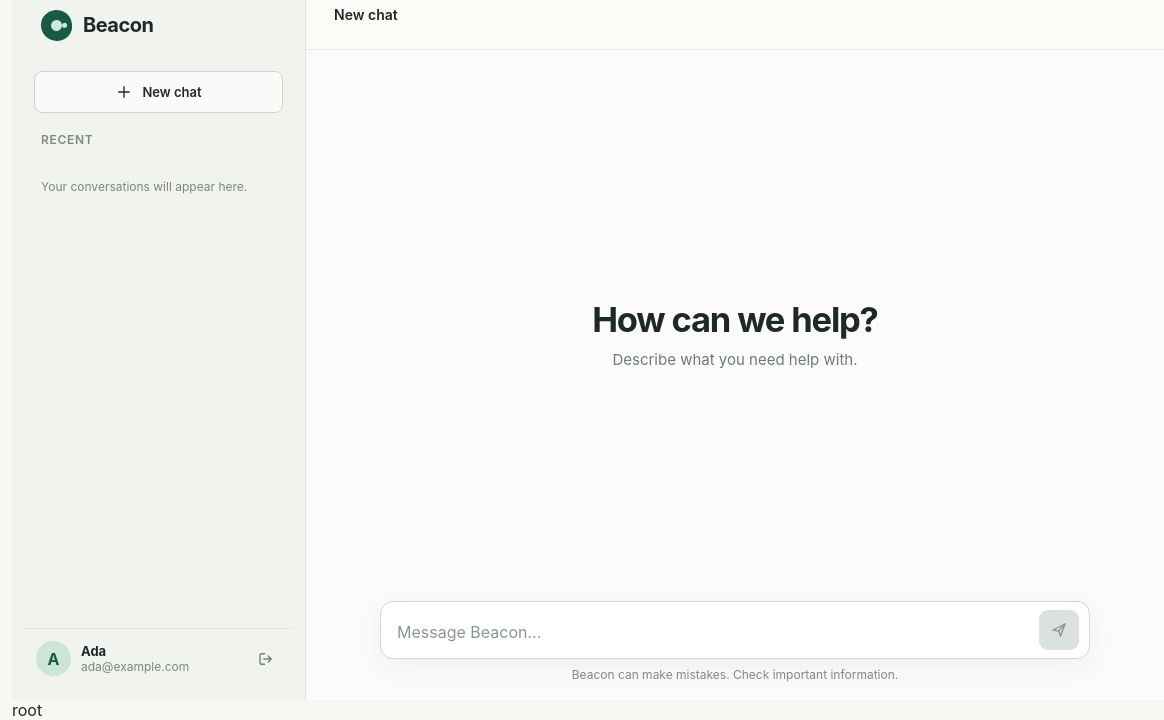
Test: chat routing › shows a stop control while streaming and cancels the request
(page scrolled)
In the text box with placeholder "Message Beacon…": (714, 632) x1=397 y1=615 x2=1031 y2=650, type "Please keep going"
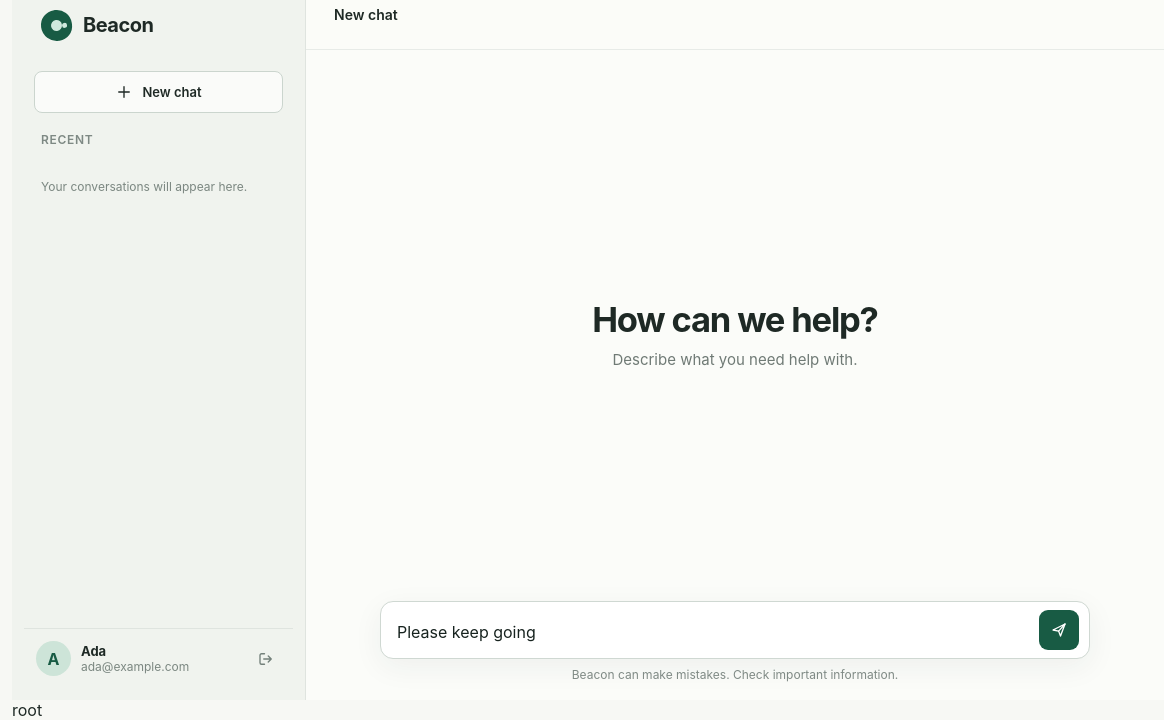
Submit the form with class "composer", box x1=380 y1=601 x2=1090 y2=659
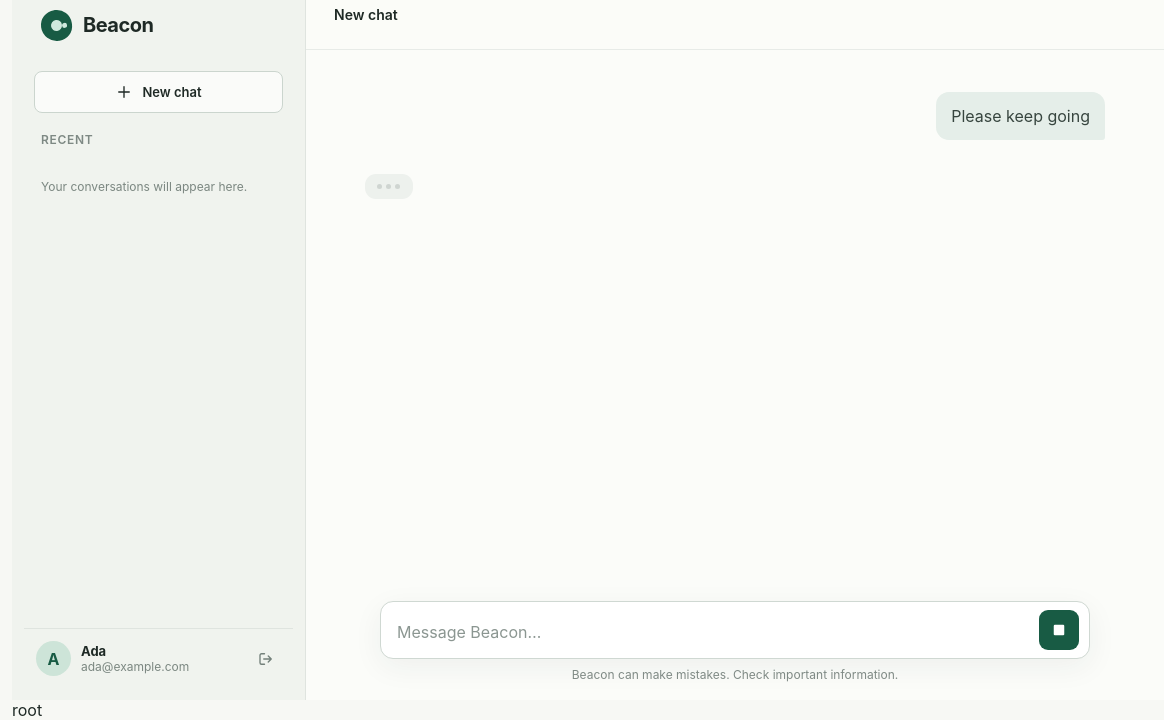
Click the button named "Stop generating": (1059, 630) x1=1039 y1=610 x2=1079 y2=650
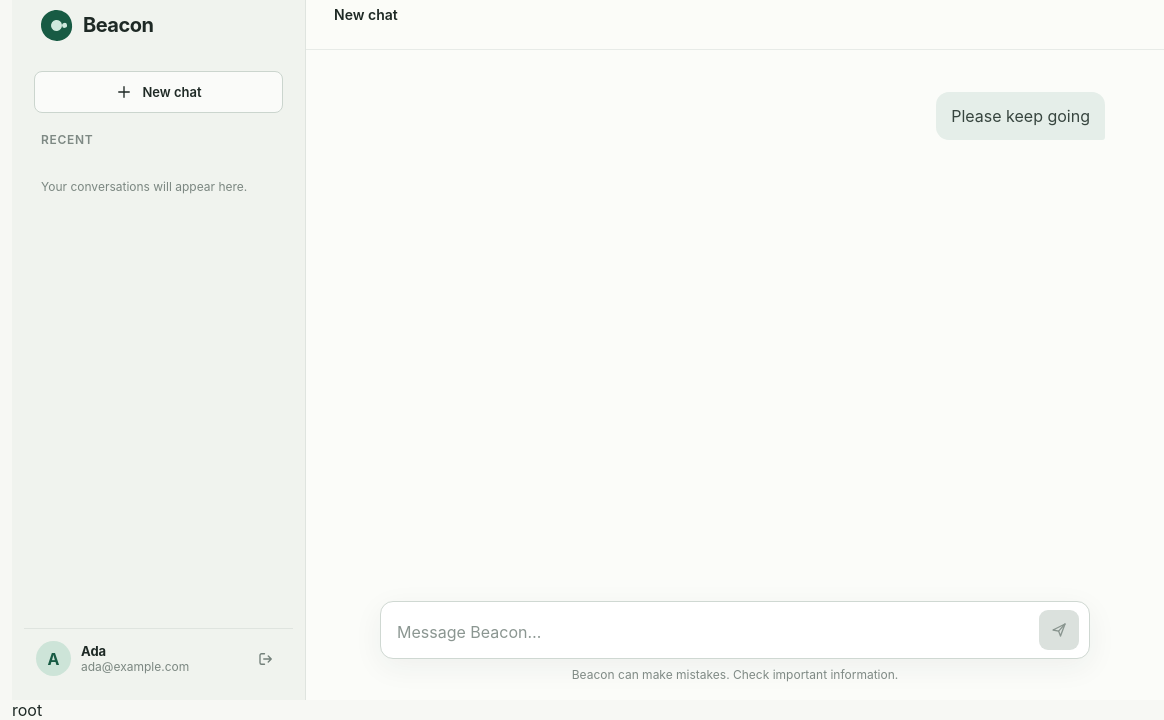
Expected: the button named "Send message" is shown, x1=1039 y1=610 x2=1079 y2=650
